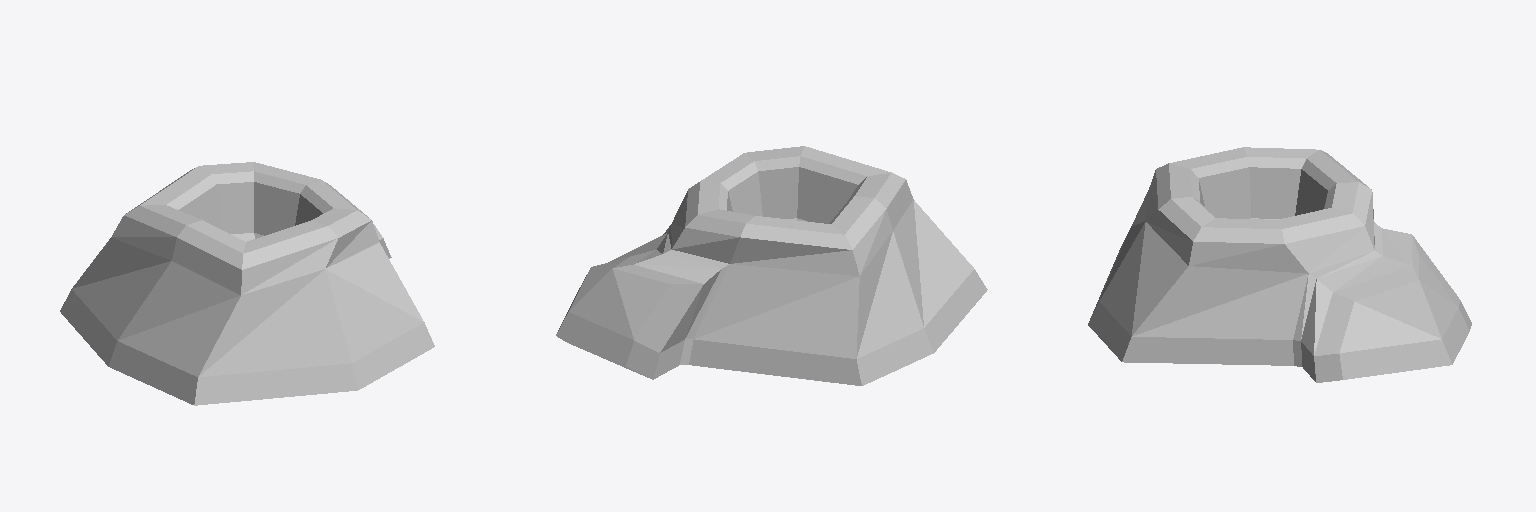
The model's file is NeanderRockGeyser1.obj.
The picture shows the model from 3 angles: view 1: azimuth 30°, elevation 25°; view 2: azimuth 150°, elevation 25°; view 3: azimuth 270°, elevation 25°; orthographic projection.
Visible parts, largest first — view 1: pCube2; view 2: pCube2; view 3: pCube2.
Part boxes in pixels (left/top/right/bottom): pCube2: left=60, top=162, right=434, bottom=405; pCube2: left=556, top=146, right=987, bottom=385; pCube2: left=1088, top=147, right=1471, bottom=382.
Size of the model in its own units: 6.31 by 2.53 by 6.7.